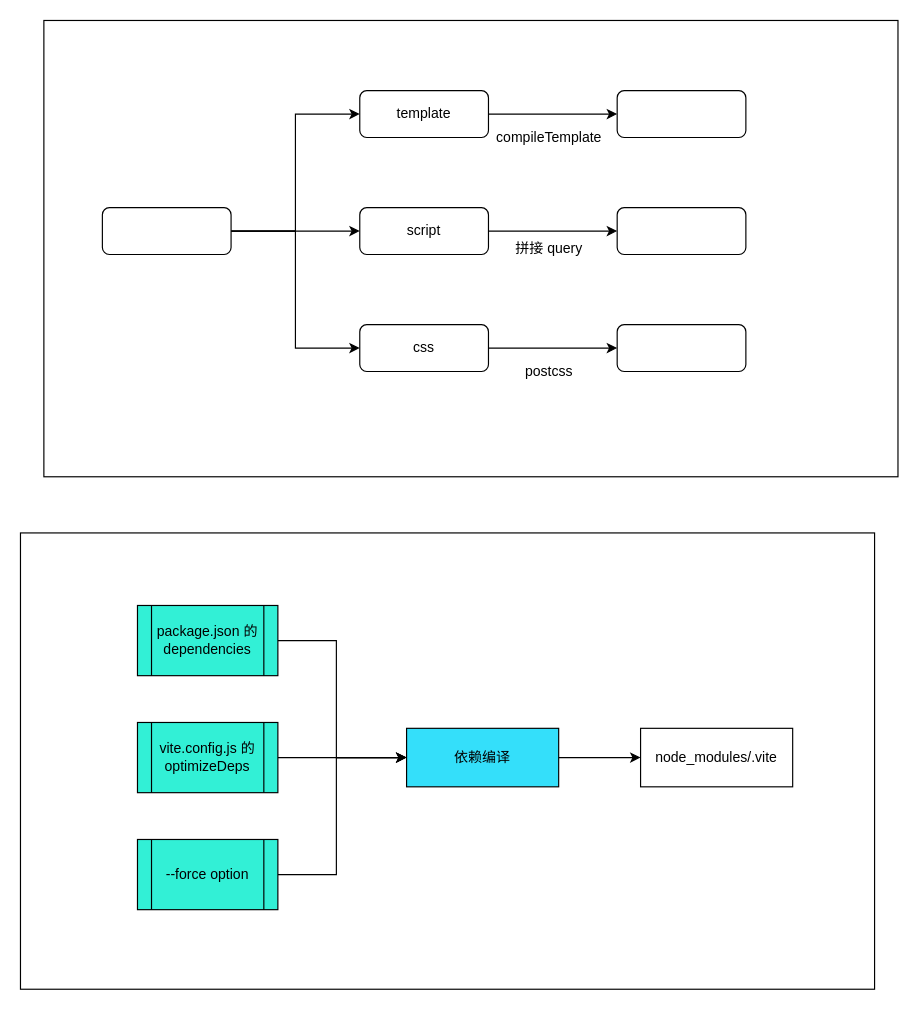
Image size: 918x1010. Some labels were removed from this diagram. The centre of each missing label's shape, as x and y in pixels:
"css（编译后）" goes at (x=681, y=347).
"render 函数" goes at (x=681, y=113).
"组件" goes at (x=166, y=230).
"组件实例" goes at (x=681, y=230).
